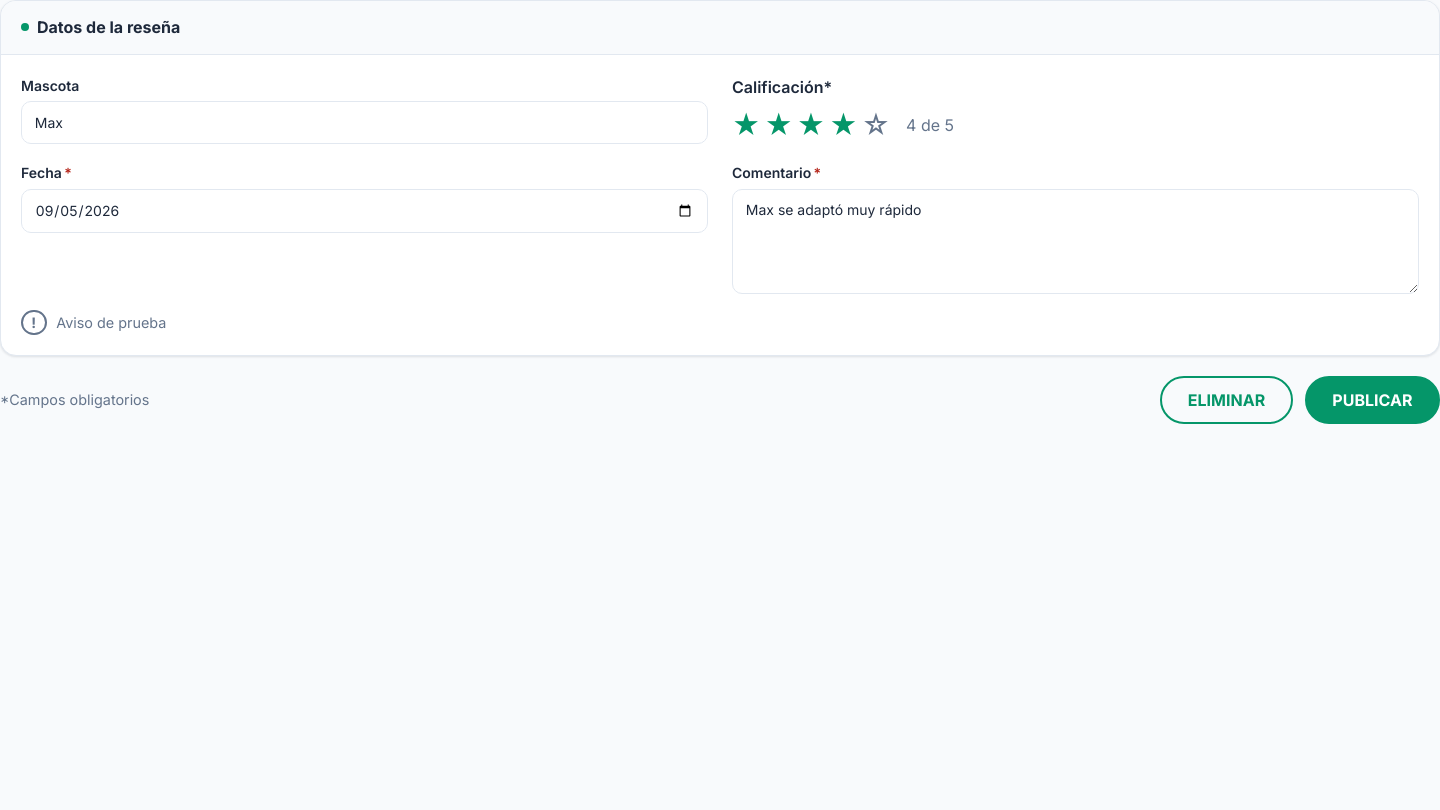
ReviewForm › deleting › deletes once the user confirms and shows progress
Click the button "Eliminar" at (1227, 400), box [1160,376,1293,424]
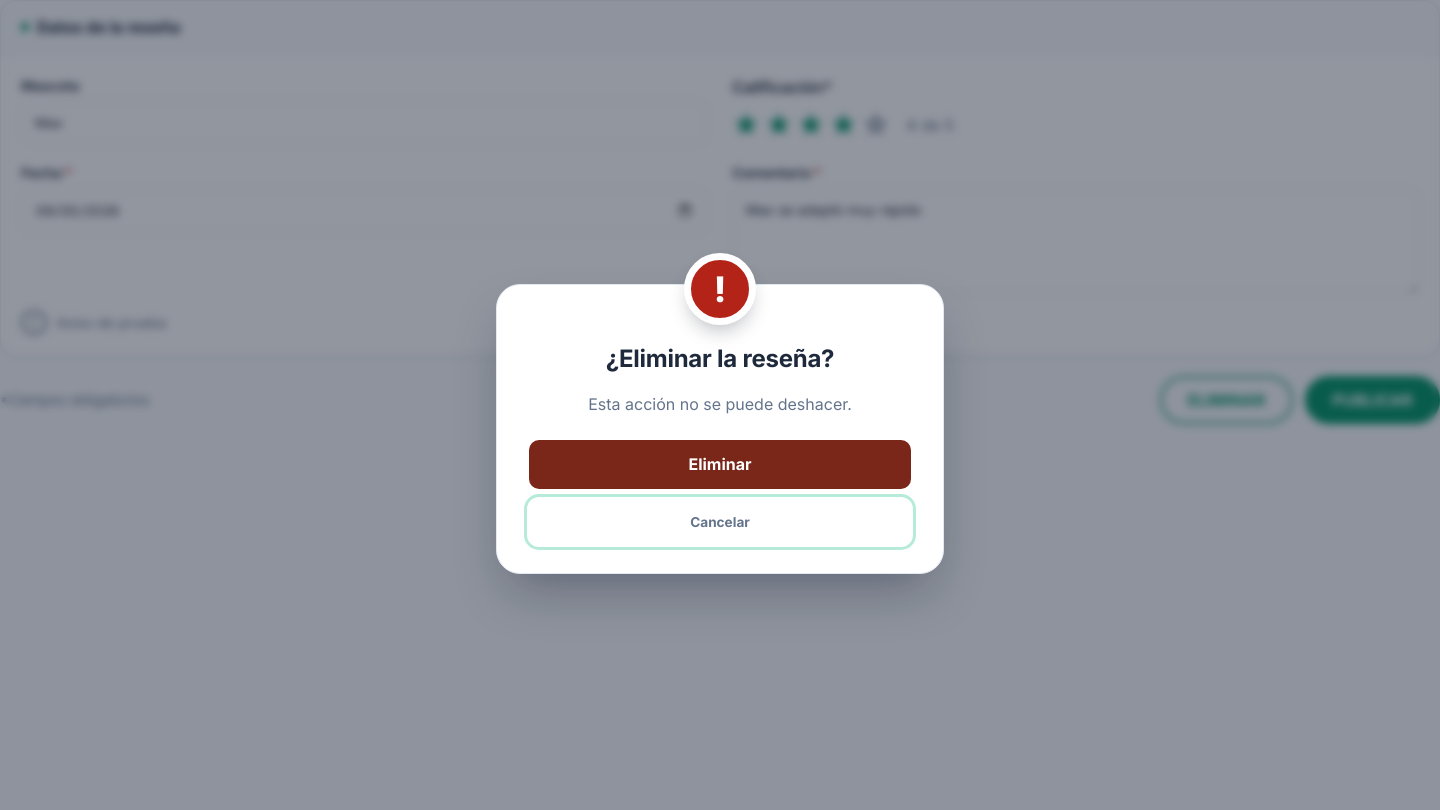
Click the button "Eliminar" at (720, 464), box [529,440,911,489]
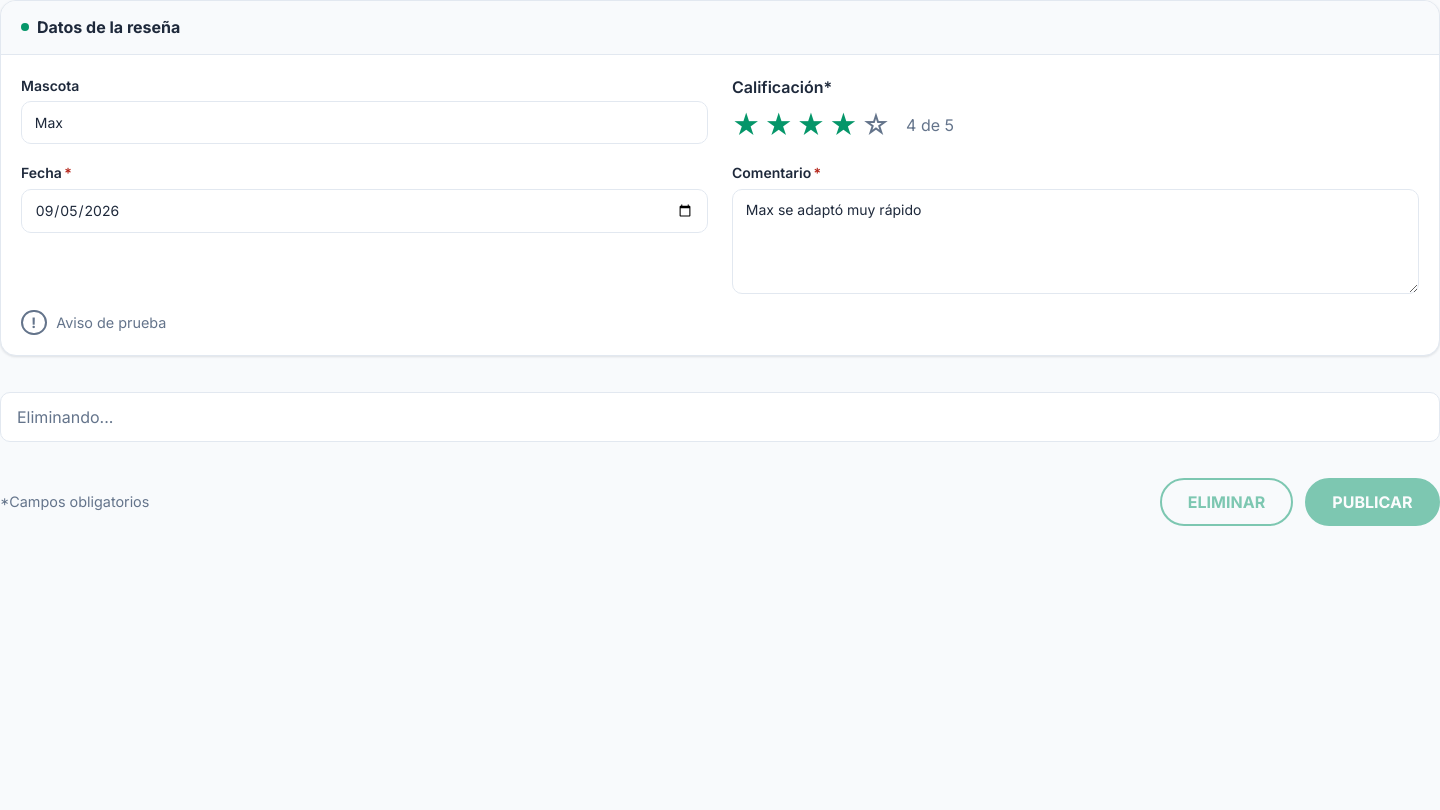
Expected: the text "Eliminando..." is shown, [17,405,113,429]
Expected: the button "Eliminar" is disabled, [1160,478,1293,526]
